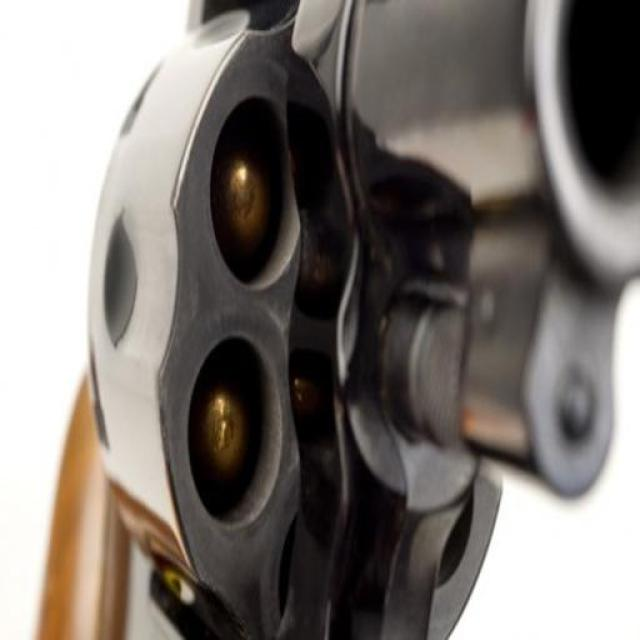pistol: (33, 2, 634, 636)
